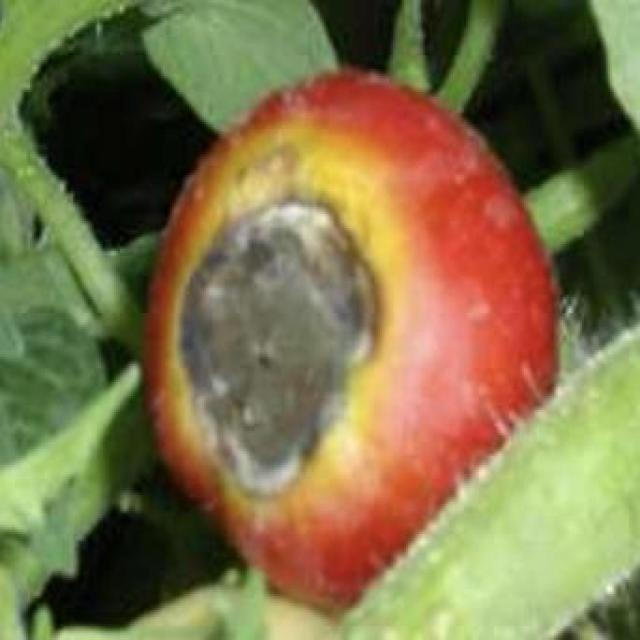Blossom End Rot Fruit: (114, 119, 253, 335)
